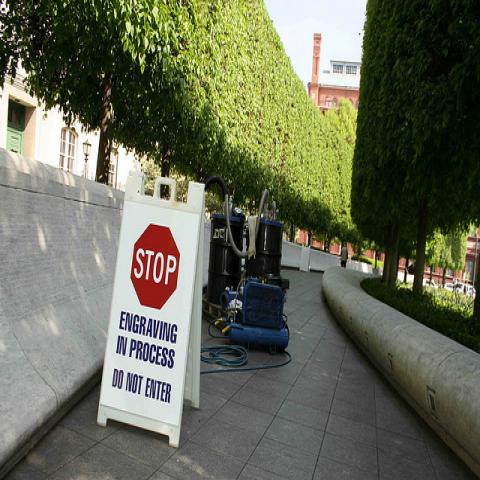car: (456, 282, 476, 298), (443, 282, 454, 293), (422, 280, 436, 286)
